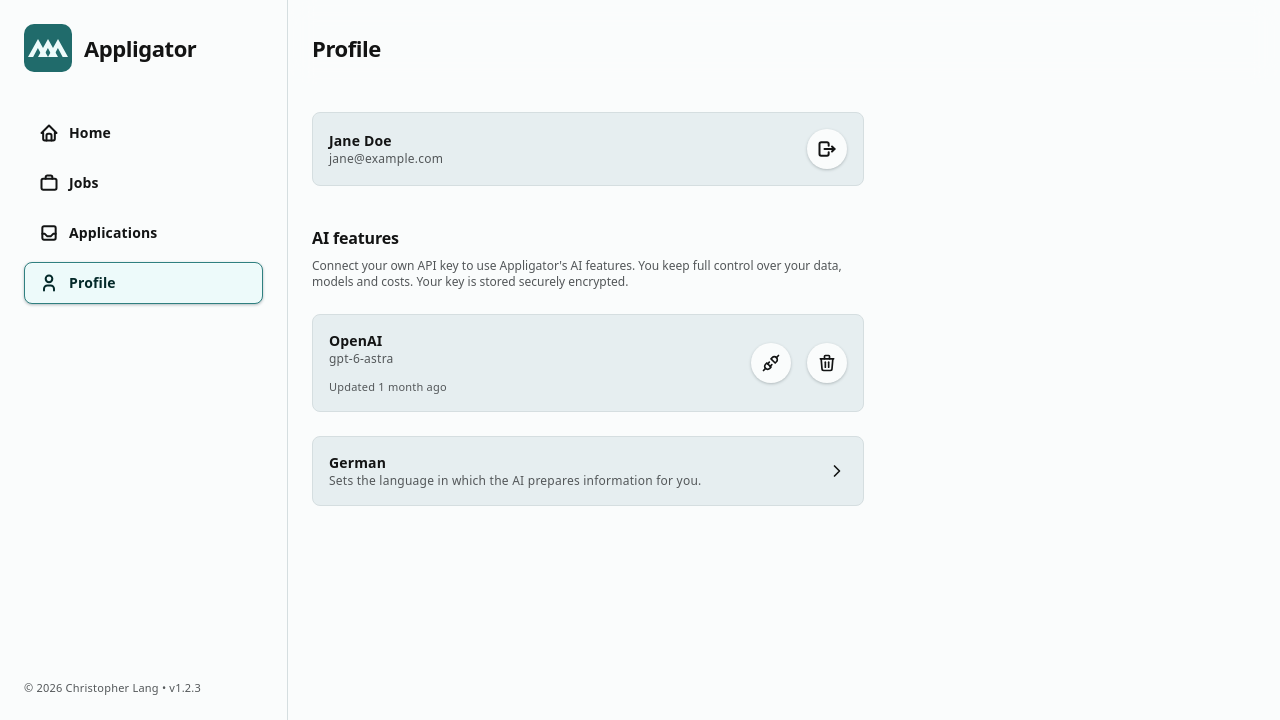
Test case: asks for the key again when the stored one is no longer usable
What coordinates should you click on to do the following:
click the button "OpenAI gpt-6-astra Updated 1 month ago"
I would click on:
 (356, 340)
Its box is [313,315,735,411].
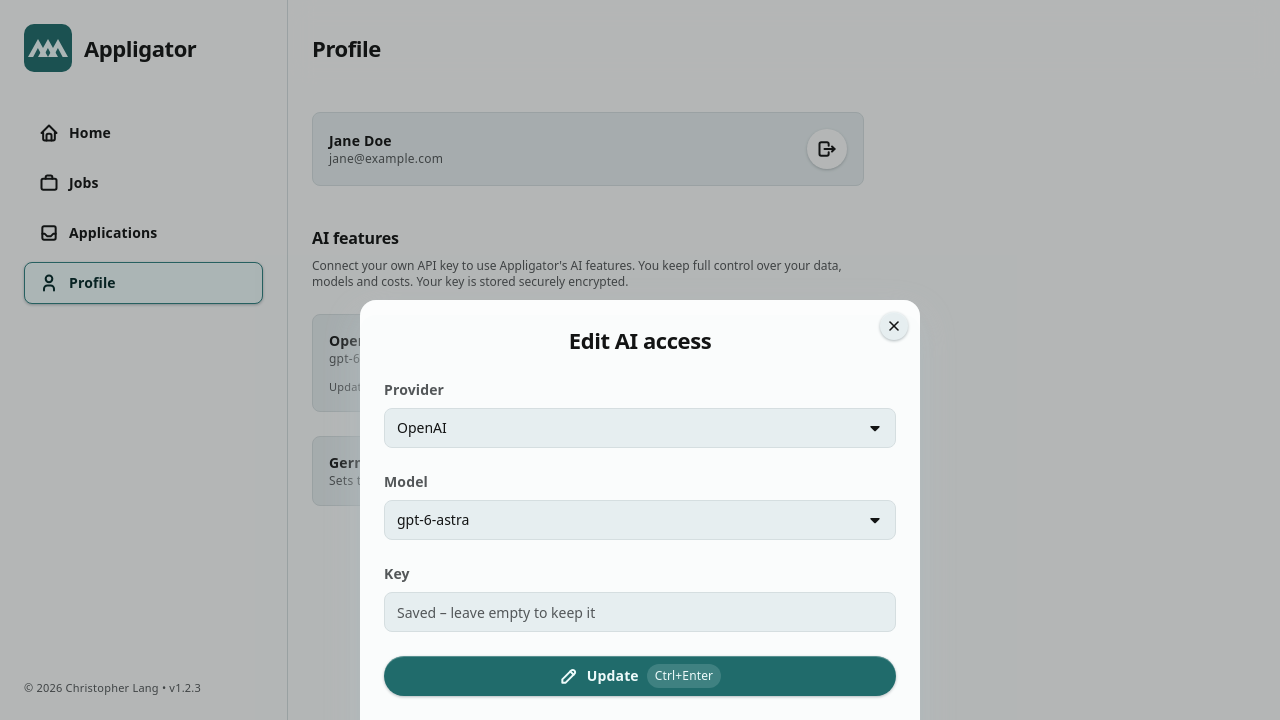
What coordinates should you click on to do the following:
click the dropdown named "Model"
I would click on:
 (433, 520)
Its box is [384,500,896,540].
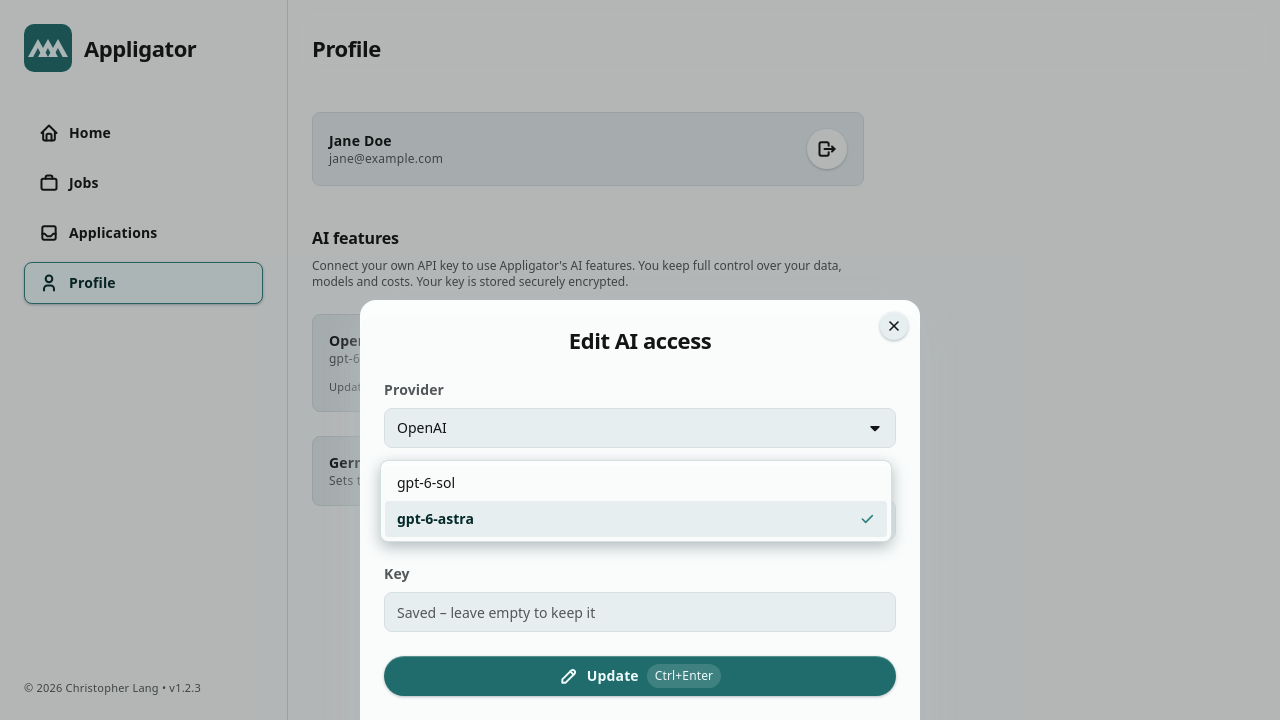
What coordinates should you click on to do the following:
click the option "gpt-6-sol"
I would click on:
 (426, 482)
Its box is [397,473,455,492].
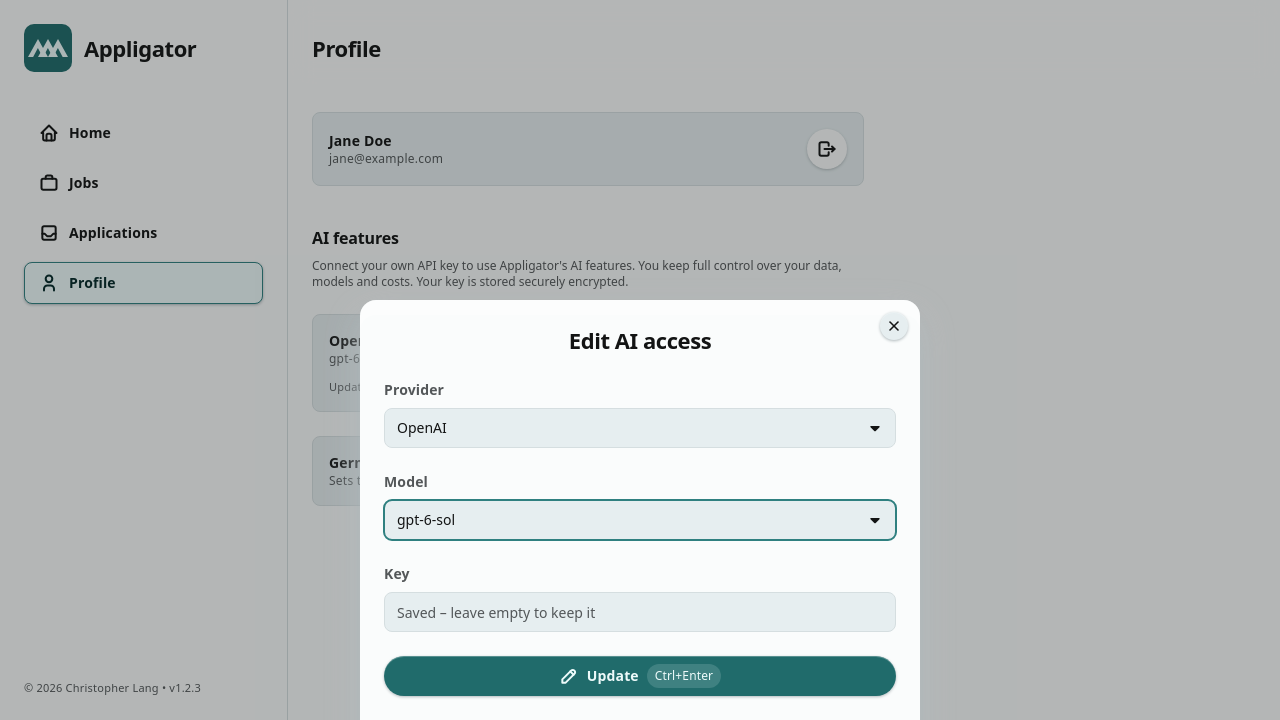
What coordinates should you click on to do the following:
click the button "Update Ctrl+Enter"
I would click on:
 (640, 676)
Its box is [384,656,896,696].
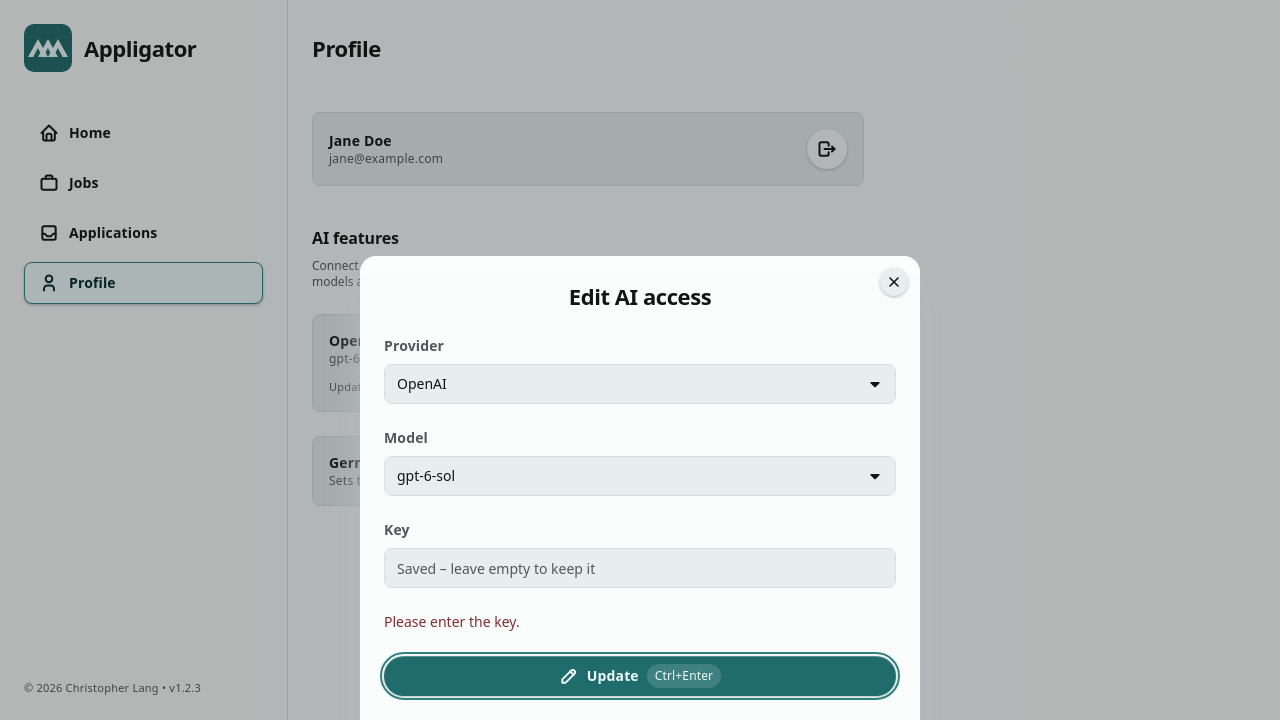
Check: the message reads "Please enter the key.", box [384,612,520,631]
